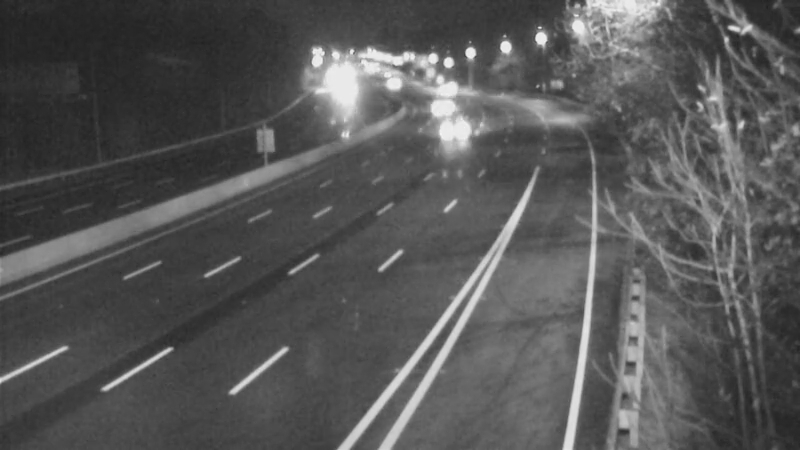vehicle: (364, 58, 414, 108), (426, 65, 476, 115), (420, 87, 470, 137), (430, 108, 480, 158)
